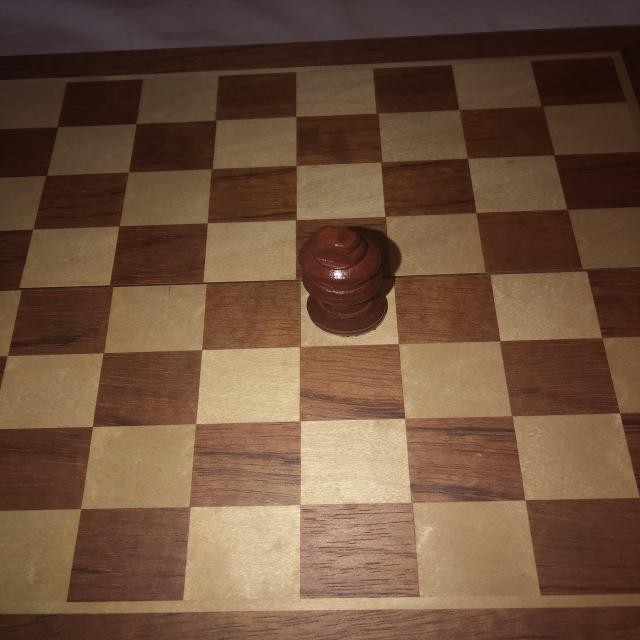black_king: (296, 226, 389, 337)
